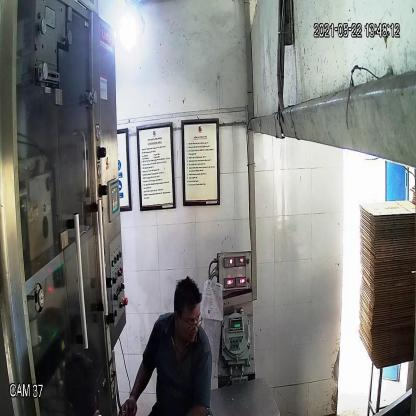goggles: (174, 309, 204, 333)
